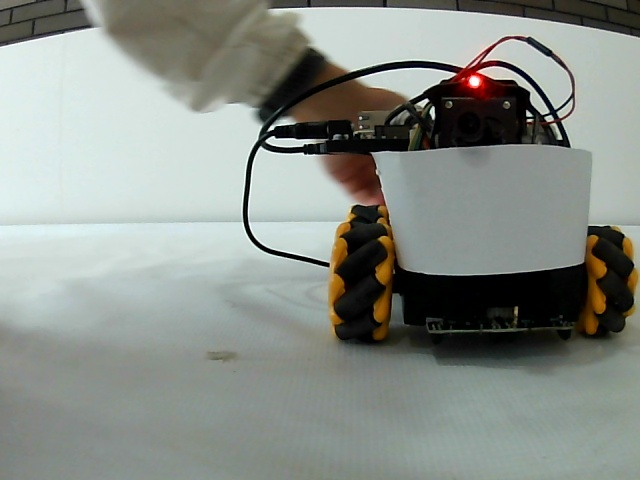car: (331, 61, 635, 342)
paper: (382, 150, 586, 267)
